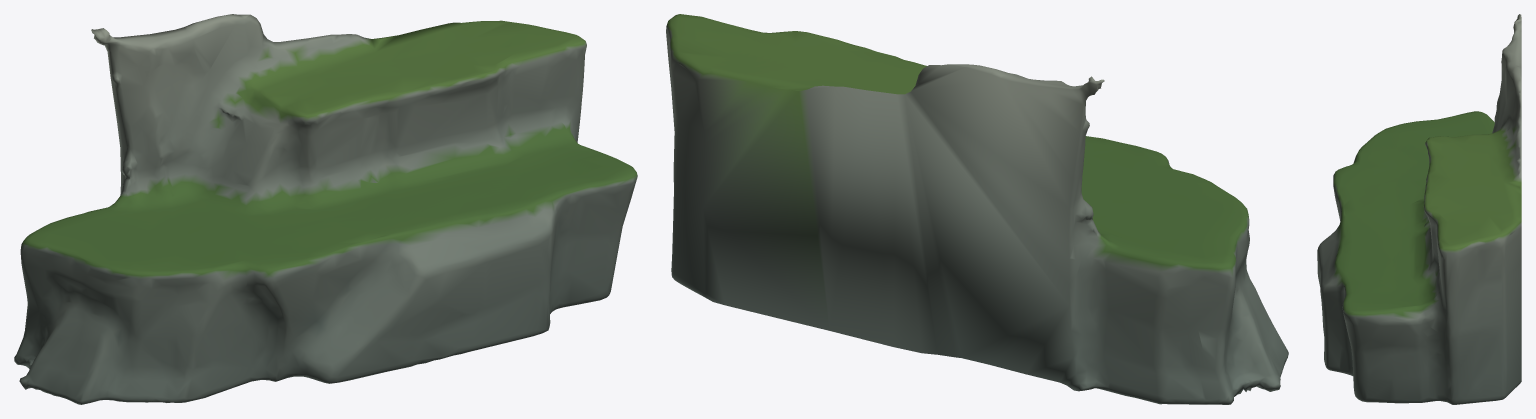
File: clay-terrace.glb
3 views of the same model, side by side, from view 1: azimuth 30°, elevation 25°; view 2: azimuth 150°, elevation 25°; view 3: azimuth 270°, elevation 25° (orthographic). The views are drawn at different scales.
Parts seen in each view (by area): view 1: clay-terrace_LOD0; view 2: clay-terrace_LOD0; view 3: clay-terrace_LOD0.
Part boxes in pixels (left/top/right/bottom): clay-terrace_LOD0: left=14, top=14, right=637, bottom=404; clay-terrace_LOD0: left=666, top=14, right=1288, bottom=404; clay-terrace_LOD0: left=1317, top=14, right=1521, bottom=404.
Size of what is drawn, in the model's own units: 22.08 by 11.09 by 8.87.
